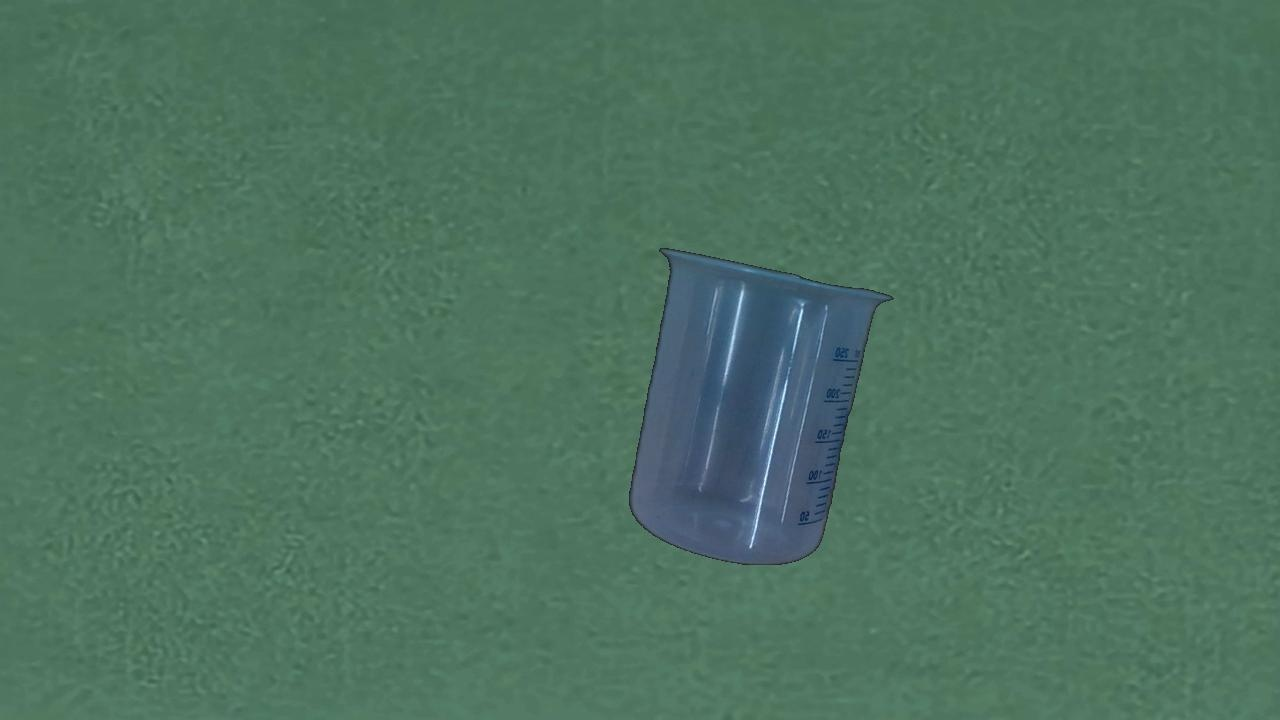becker: (627, 247, 893, 567)
